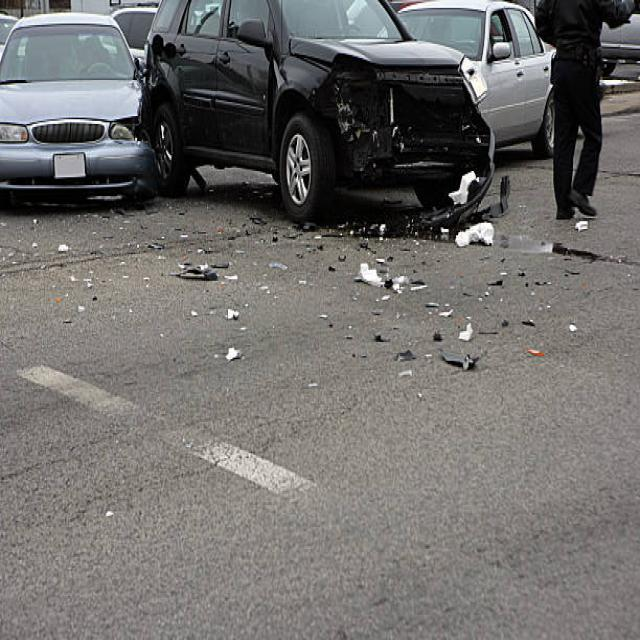accident: (5, 26, 426, 202)
